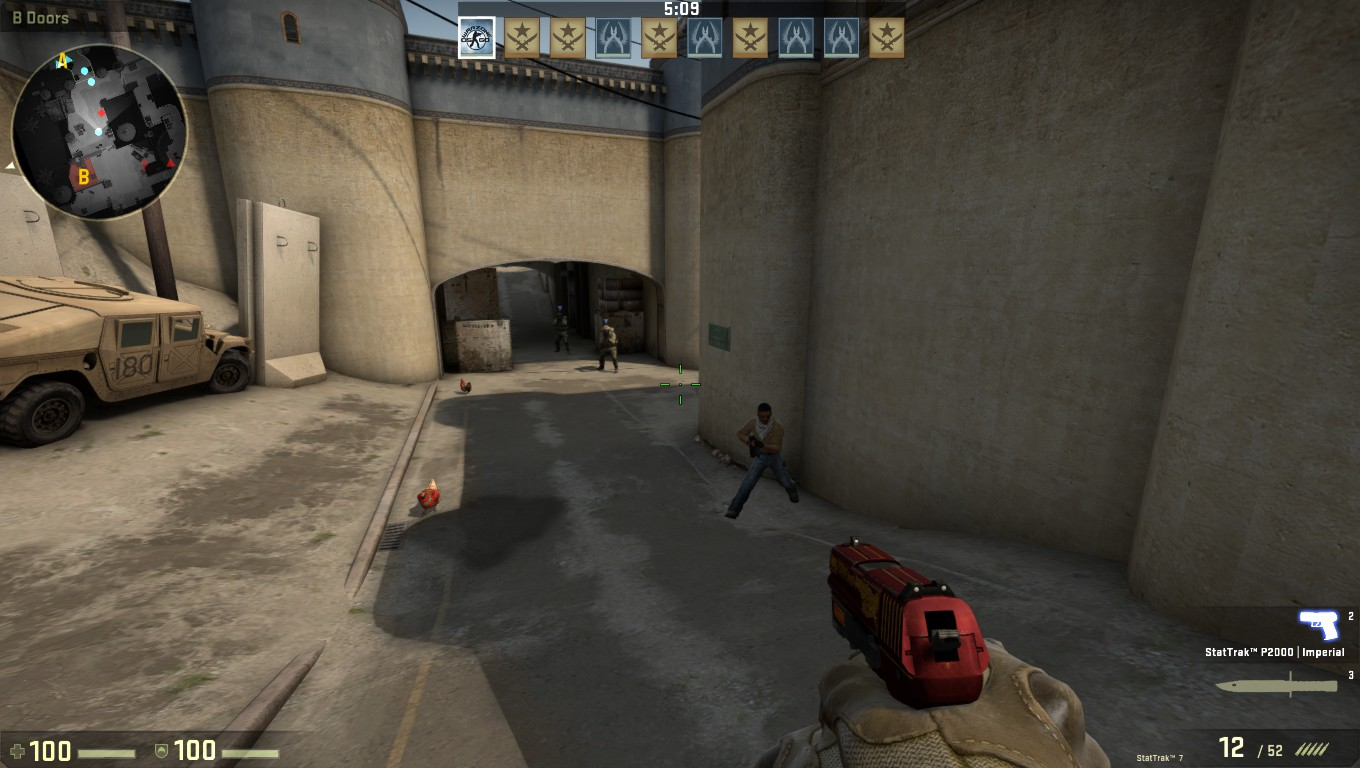c: (597, 325, 619, 372), (551, 311, 572, 354)
ch: (599, 325, 614, 337)
t: (734, 399, 788, 516)
th: (751, 402, 776, 425)
